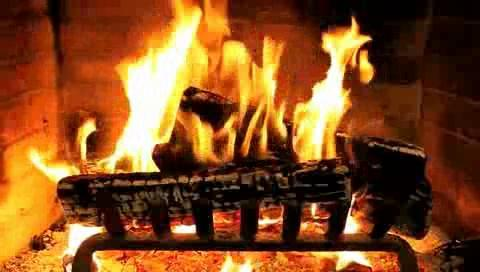fire: (105, 3, 366, 184)
